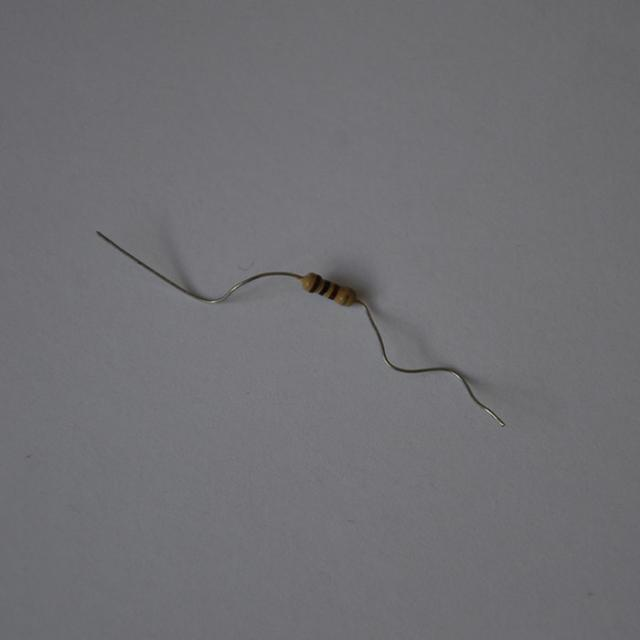black: (320, 281, 330, 294)
brown: (308, 275, 320, 292), (329, 283, 340, 300)
gold: (341, 289, 352, 305)
resistor: (286, 258, 369, 326)
